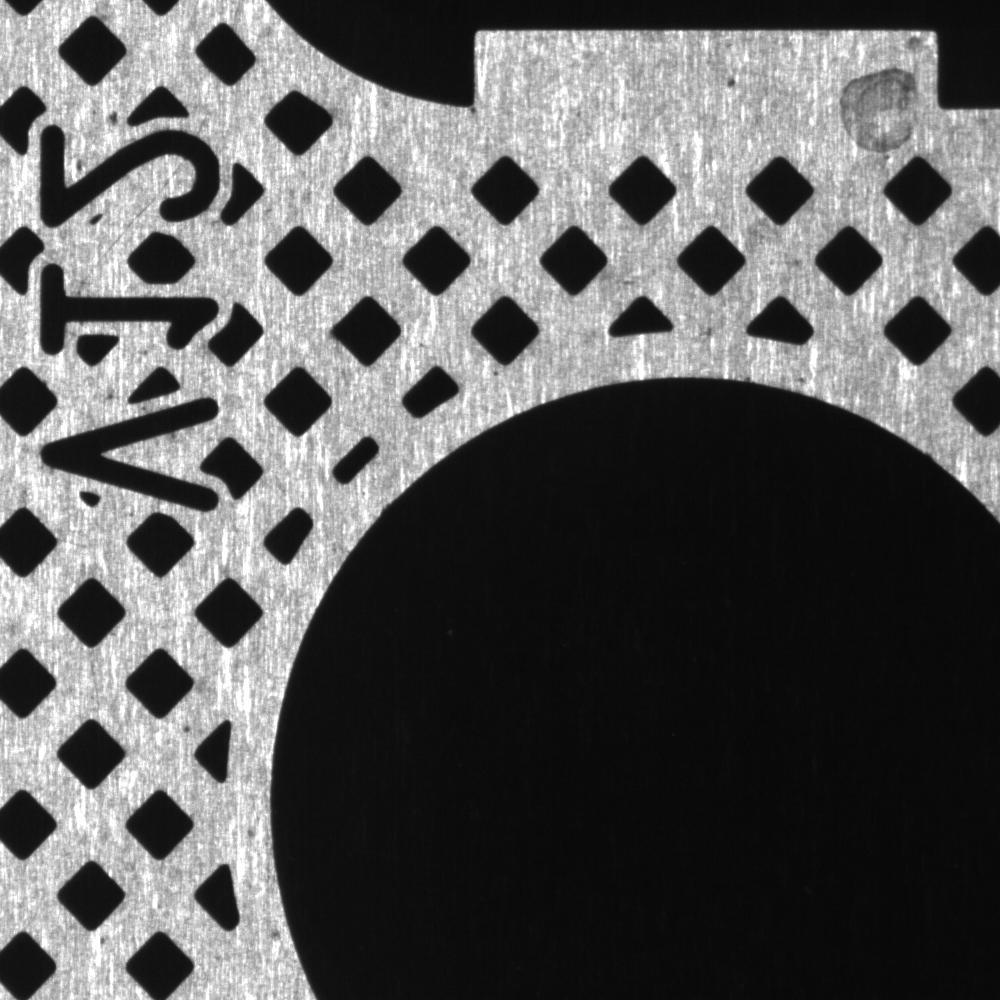Discolor: (814, 30, 938, 165)
Etching: (715, 57, 752, 98)
Scar: (73, 151, 186, 296)
